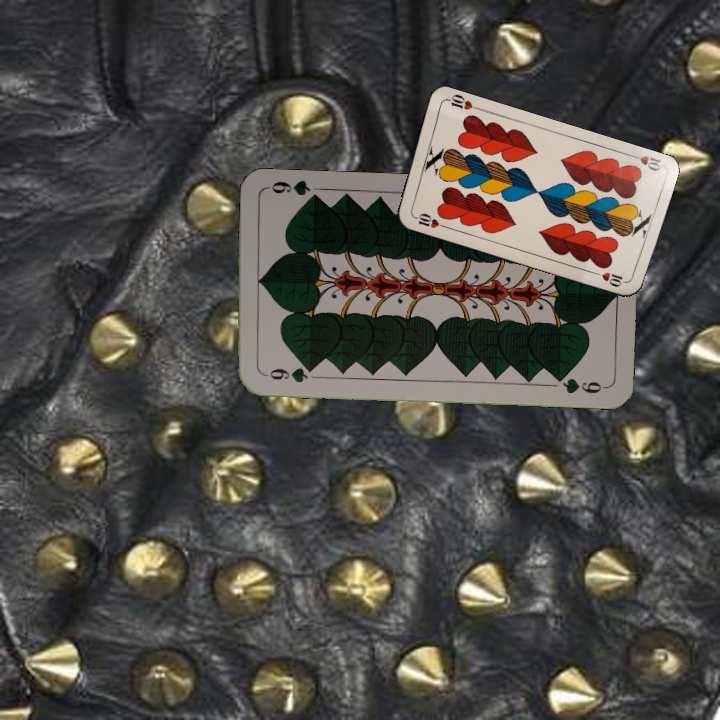G9: (258, 363, 318, 386)
H10: (625, 150, 665, 174), (408, 209, 448, 231)
